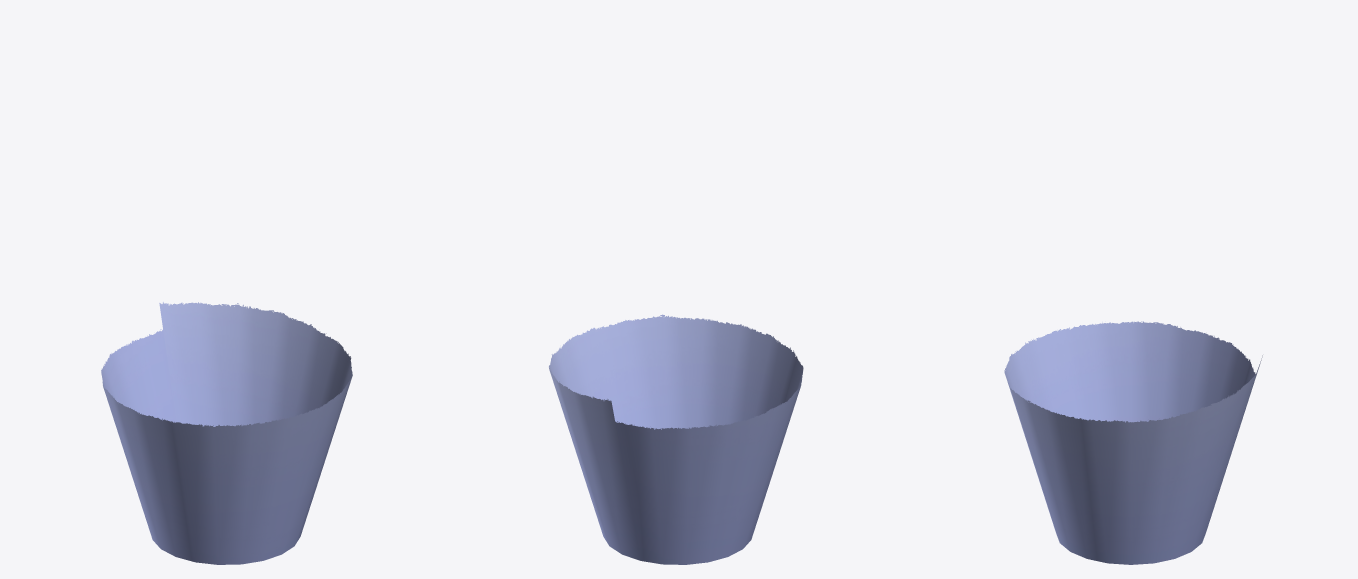
The model's file is lightbeam.fbx.
The picture shows the model from 3 angles, left to right: view 1: azimuth 30°, elevation 25°; view 2: azimuth 150°, elevation 25°; view 3: azimuth 270°, elevation 25°; orthographic projection.
Parts seen in each view (by area): view 1: pCylinder2; view 2: pCylinder2; view 3: pCylinder2.
Boxes of the visible parts, box(x1,y1,x2,y2) form: pCylinder2: box(101, 302, 352, 564); pCylinder2: box(549, 314, 803, 564); pCylinder2: box(1004, 321, 1262, 564).
Bounding box in the file's own units: 377 × 420 × 377.
1 material, 1 textured.
